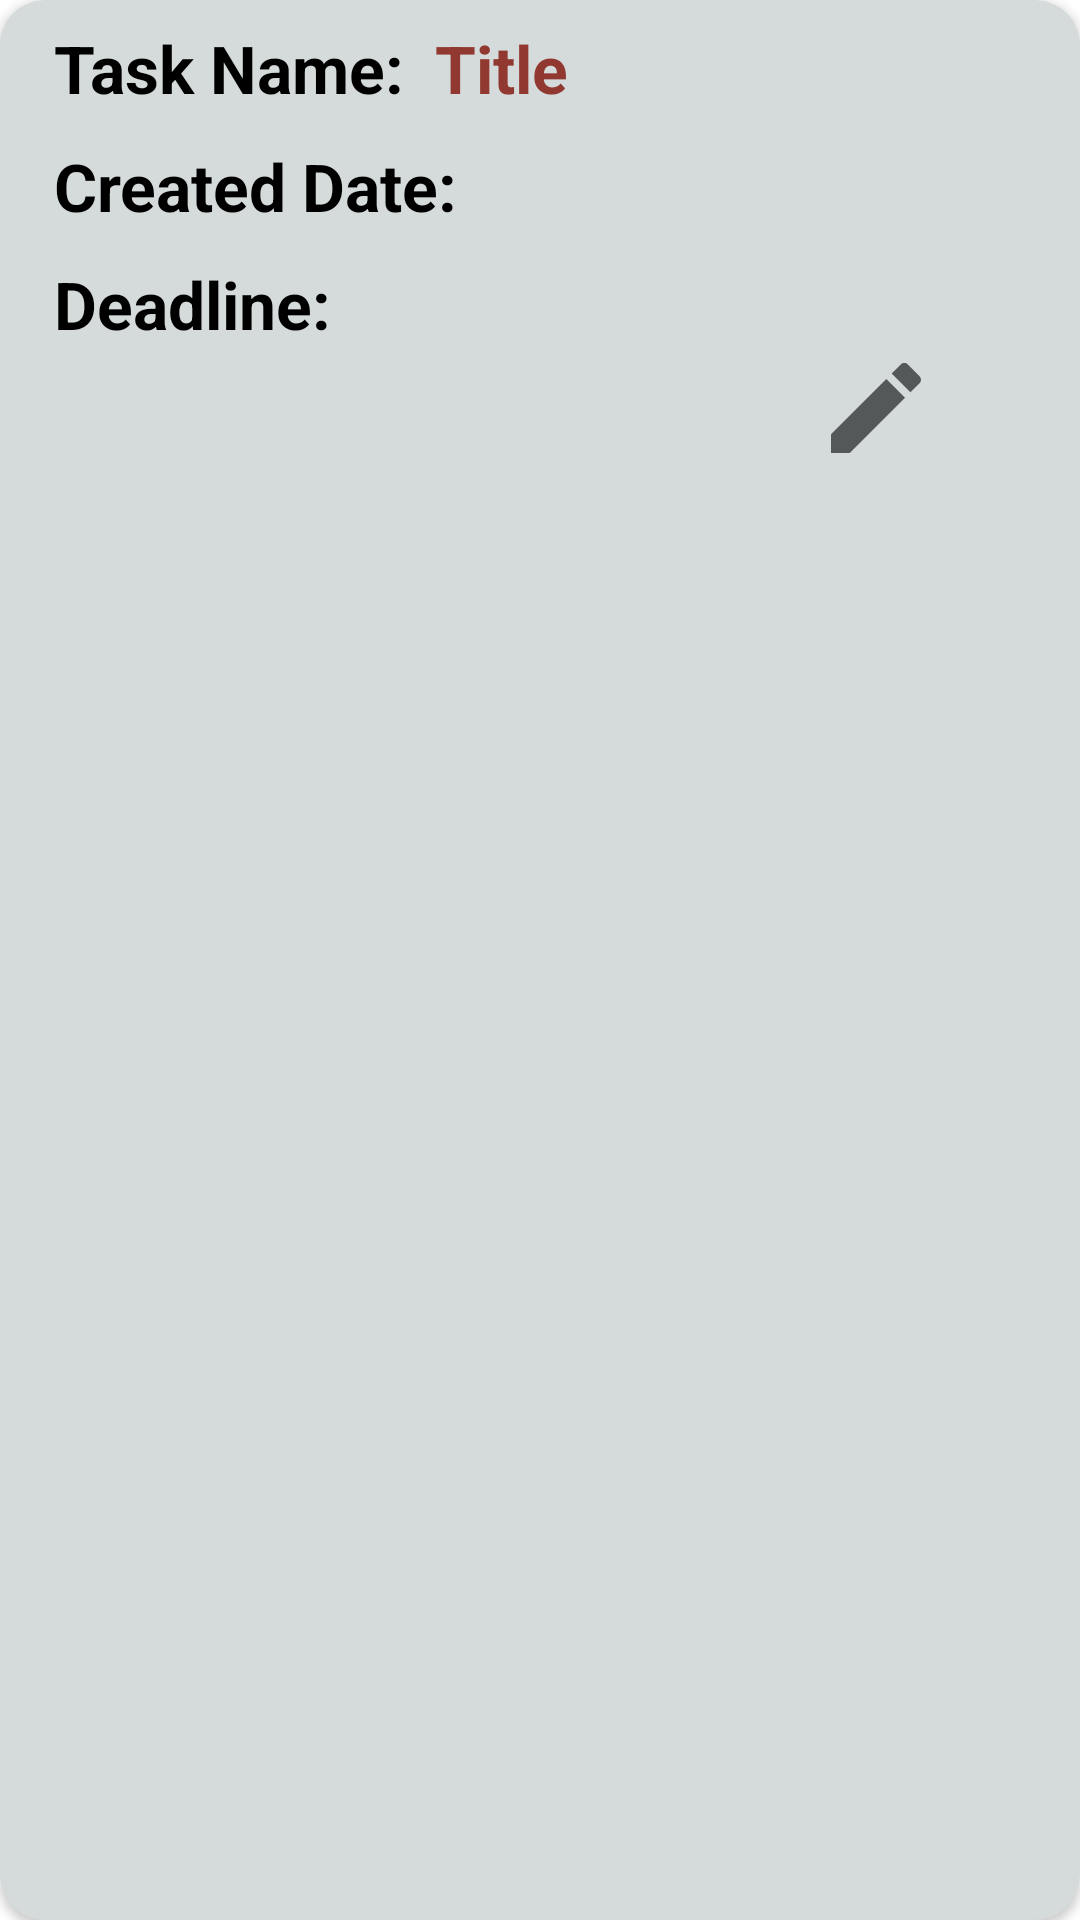

Named icons in this screenshot (1080 × 1920) and their bounding boxes, [x1, y1, x2, y2]:
edit: [831, 363, 921, 453]
